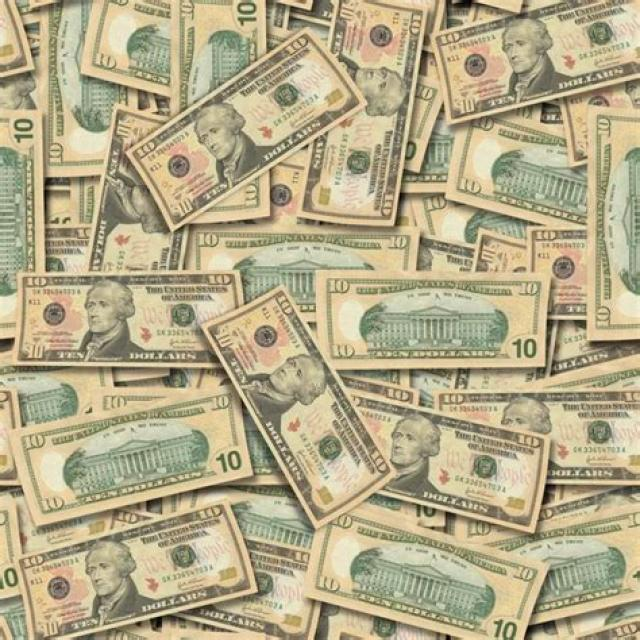Ten: (128, 23, 372, 224), (206, 284, 392, 525), (13, 382, 255, 525), (303, 504, 550, 640), (18, 501, 259, 640), (297, 0, 430, 227), (340, 394, 551, 528), (432, 0, 640, 122), (316, 270, 546, 369), (174, 0, 273, 219), (14, 272, 243, 366), (34, 0, 138, 184), (189, 227, 420, 309), (439, 389, 640, 481), (446, 110, 588, 230), (91, 107, 189, 270), (589, 107, 640, 344), (0, 109, 43, 340), (88, 0, 175, 98)
